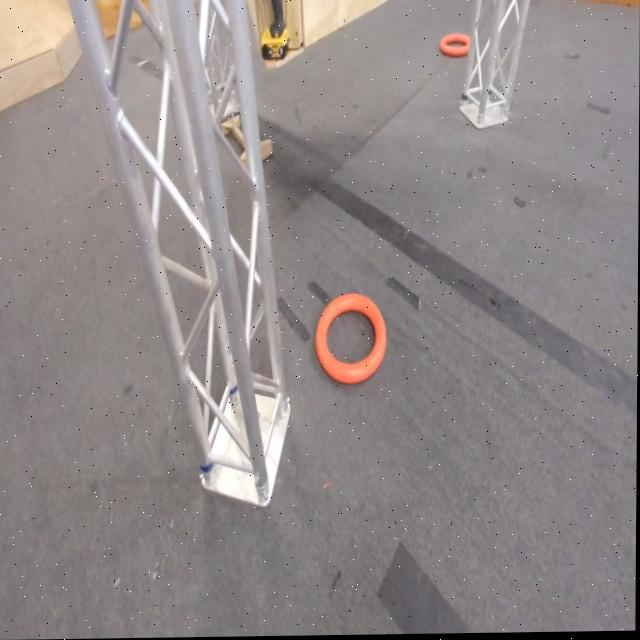note: (317, 297, 389, 385), (439, 34, 471, 59)
